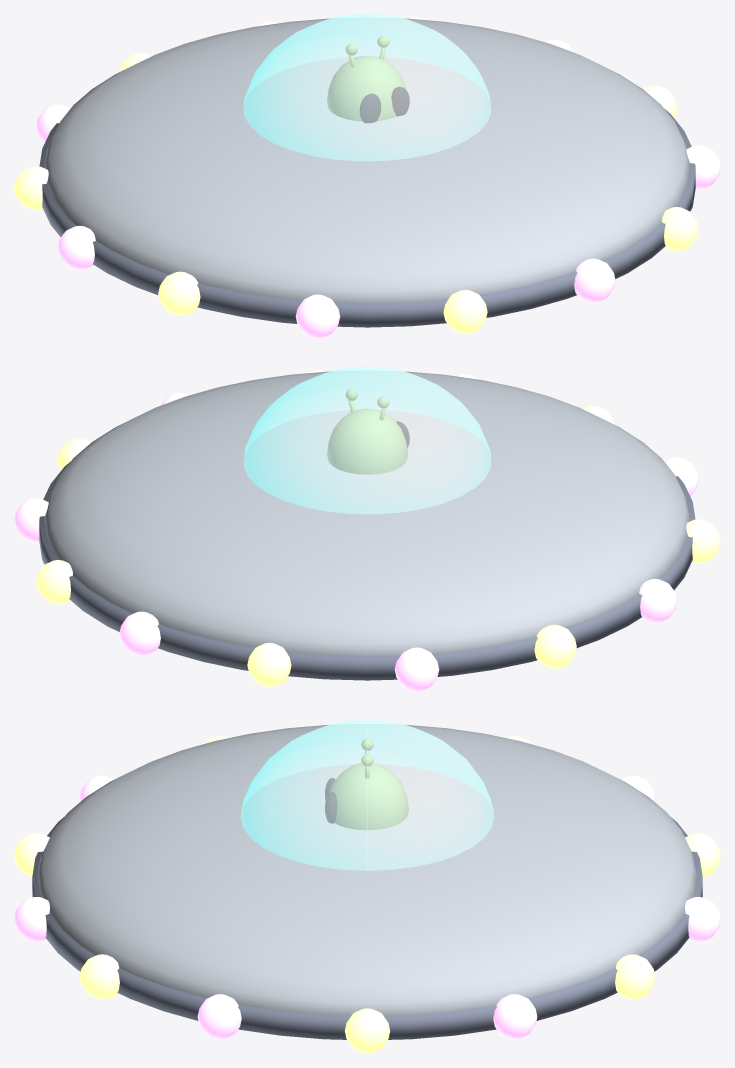
The model's file is ufo.glb.
3 renders of one model, top to bottom at view 1: azimuth 30°, elevation 25°; view 2: azimuth 150°, elevation 25°; view 3: azimuth 270°, elevation 25°, orthographic. The views are drawn at different scales.
Visible parts, largest first — view 1: ufo_top, ufo_dome, ufo_rim, ufo_alien_head, ufo_light_9, ufo_light_10, ufo_light_8, ufo_light_11, ufo_light_7, ufo_light_12, ufo_light_6, ufo_light_13 (+2 smaller); view 2: ufo_top, ufo_dome, ufo_rim, ufo_alien_head, ufo_light_5, ufo_light_4, ufo_light_6, ufo_light_3, ufo_light_7, ufo_light_2, ufo_light_8, ufo_light_1 (+2 smaller); view 3: ufo_top, ufo_dome, ufo_rim, ufo_alien_head, ufo_light_0, ufo_light_1, ufo_light_13, ufo_light_2, ufo_light_12, ufo_light_3, ufo_light_11, ufo_light_4 (+1 smaller).
Part boxes in pixels (<box>): ufo_top: <box>44,18,690,303</box>; ufo_dome: <box>243,14,491,161</box>; ufo_rim: <box>39,109,695,327</box>; ufo_alien_head: <box>327,56,406,121</box>; ufo_light_9: <box>295,294,340,338</box>; ufo_light_10: <box>443,289,487,334</box>; ufo_light_8: <box>158,271,200,315</box>; ufo_light_11: <box>574,258,615,302</box>; ufo_light_7: <box>57,226,95,270</box>; ufo_light_12: <box>662,207,698,251</box>; ufo_light_6: <box>14,166,48,210</box>; ufo_light_13: <box>686,145,720,189</box>; ufo_top: <box>44,371,690,656</box>; ufo_dome: <box>243,367,491,514</box>; ufo_rim: <box>39,462,695,680</box>; ufo_alien_head: <box>327,409,407,474</box>; ufo_light_5: <box>394,647,439,691</box>; ufo_light_4: <box>247,642,291,687</box>; ufo_light_6: <box>534,624,576,668</box>; ufo_light_3: <box>119,611,160,655</box>; ufo_light_7: <box>639,579,677,623</box>; ufo_light_2: <box>36,560,72,604</box>; ufo_light_8: <box>686,519,720,563</box>; ufo_light_1: <box>14,498,48,542</box>; ufo_top: <box>37,724,697,1015</box>; ufo_dome: <box>240,720,494,870</box>; ufo_rim: <box>32,817,702,1039</box>; ufo_alien_head: <box>329,763,408,829</box>; ufo_light_0: <box>345,1008,389,1053</box>; ufo_light_1: <box>493,994,537,1039</box>; ufo_light_13: <box>197,994,241,1039</box>; ufo_light_2: <box>615,954,655,999</box>; ufo_light_12: <box>79,954,119,999</box>; ufo_light_3: <box>685,897,720,942</box>; ufo_light_11: <box>14,897,49,942</box>; ufo_light_4: <box>685,833,720,877</box>.
Bounding box in the file's own units: 3.5 × 1.18 × 3.42.
